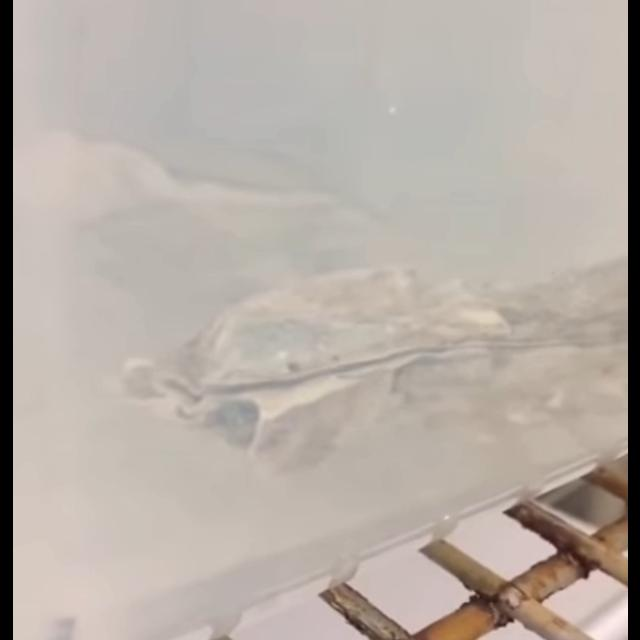Oyster-Closed: (112, 259, 628, 473), (54, 121, 358, 245)
